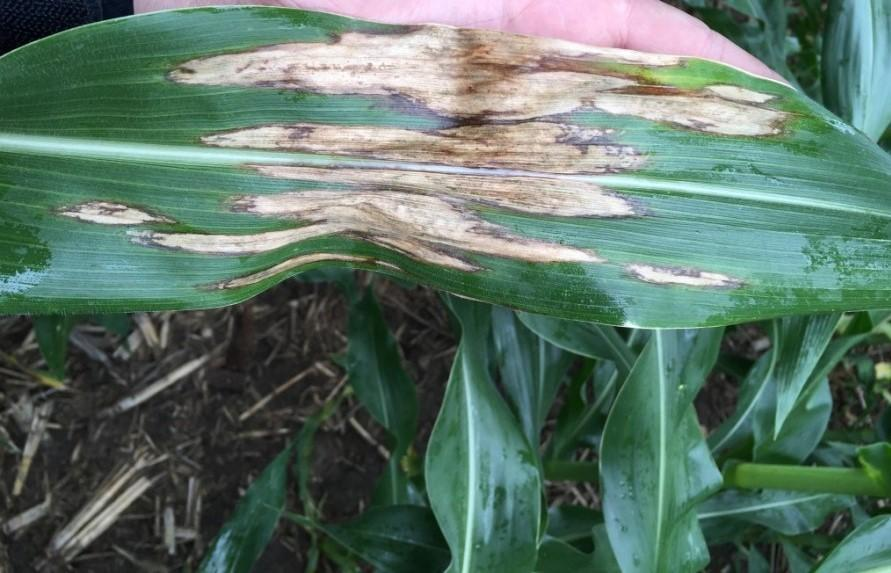Corn_Blight: (161, 11, 798, 178), (33, 184, 762, 305)
